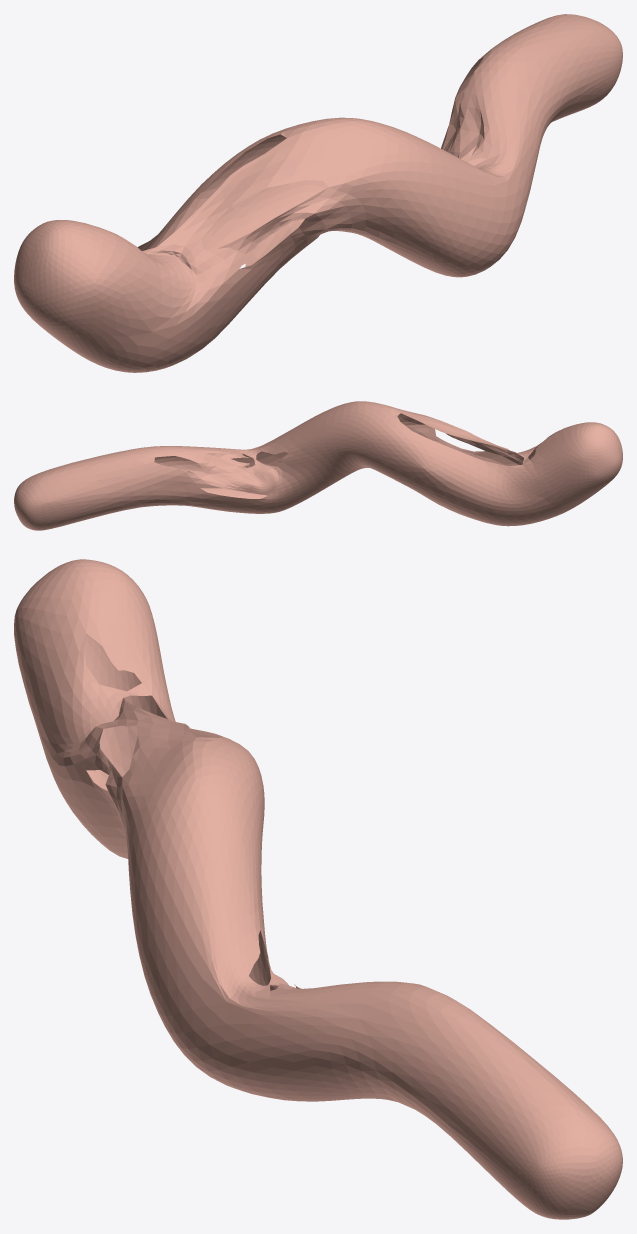
The model's file is appendice.glb.
3 renders of one model, top to bottom at view 1: azimuth 30°, elevation 25°; view 2: azimuth 150°, elevation 25°; view 3: azimuth 270°, elevation 25°, orthographic. The views are drawn at different scales.
Parts seen in each view (by area): view 1: appendix; view 2: appendix; view 3: appendix.
Part boxes in pixels (x1,y1,x2,y2): appendix: (14, 14, 622, 372); appendix: (14, 401, 622, 530); appendix: (14, 559, 622, 1219).
Bounding box in the file's own units: 69.33 × 17.32 × 38.59.
